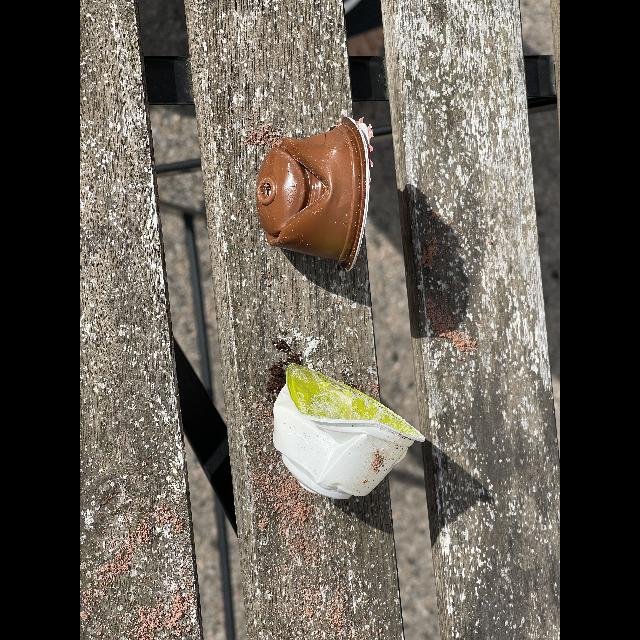damaged_capsule: (264, 352, 434, 520), (243, 99, 384, 291)
